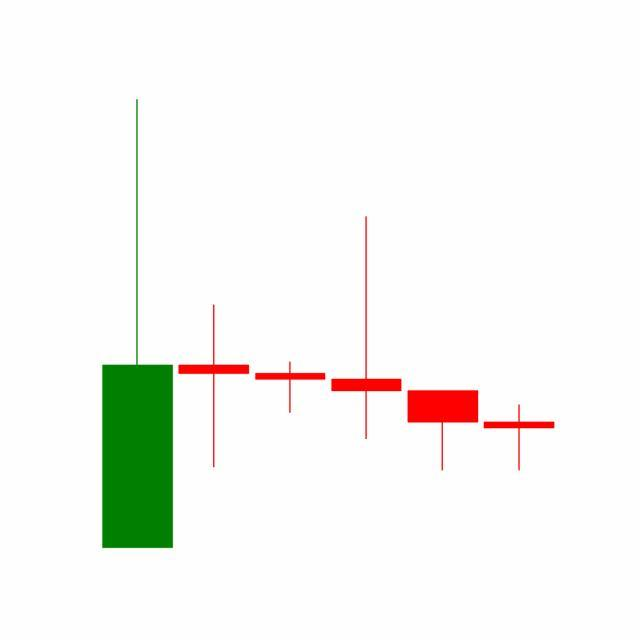Hammer: (404, 390, 482, 472)
